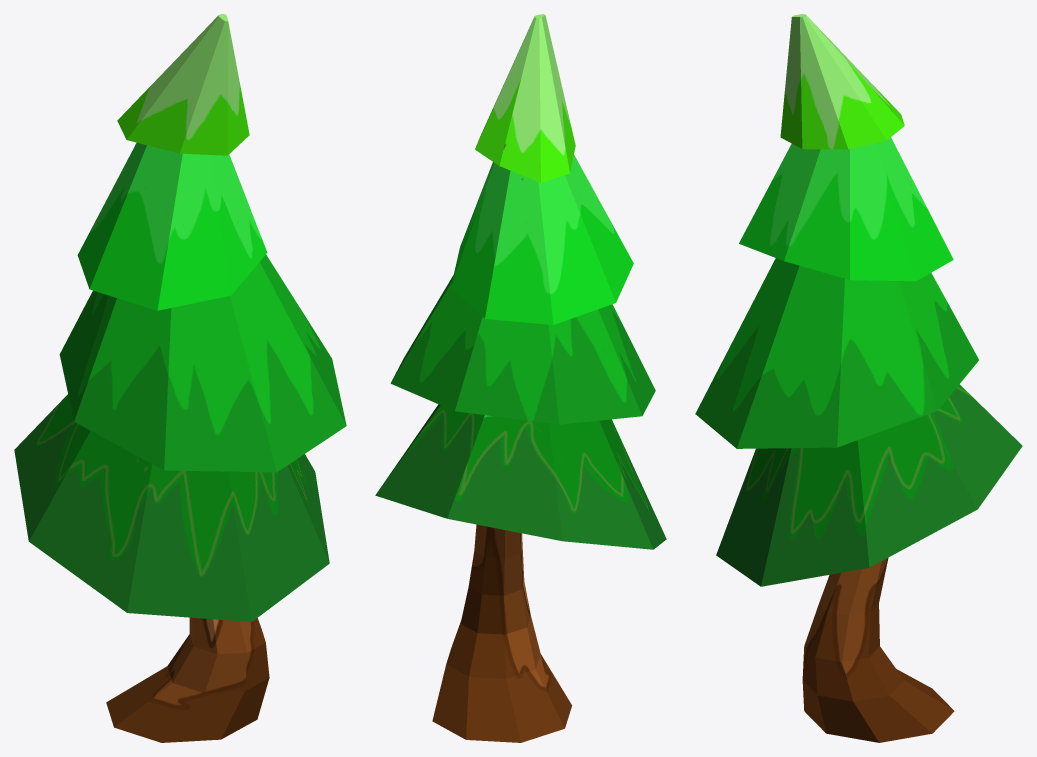
Rendered from tree2.fbx.
3 renders of one model, left to right at view 1: azimuth 30°, elevation 25°; view 2: azimuth 150°, elevation 25°; view 3: azimuth 270°, elevation 25°, orthographic. The views are drawn at different scales.
Parts seen in each view (by area): view 1: Cylinder; view 2: Cylinder; view 3: Cylinder.
Part boxes in pixels (x1,y1,x2,y2): Cylinder: (14,14,346,742); Cylinder: (375,14,666,742); Cylinder: (695,14,1022,742).
Bounding box in the file's own units: 186 × 448 × 191.
Materials: 1 (1 with a texture image).
